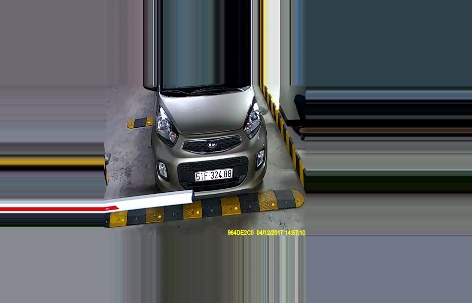plate: (193, 165, 234, 180)
